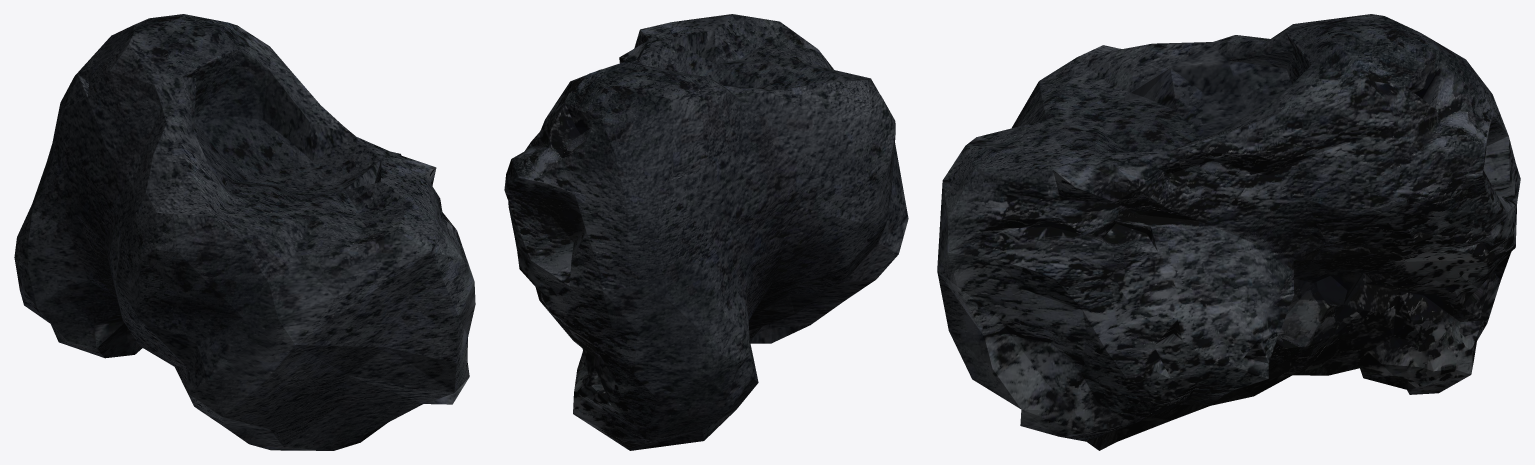
Rendered from lava-rock-1.glb.
3 renders of one model, left to right at view 1: azimuth 30°, elevation 25°; view 2: azimuth 150°, elevation 25°; view 3: azimuth 270°, elevation 25°, orthographic. The views are drawn at different scales.
Parts seen in each view (by area): view 1: tripo_node_e22142ec-6830-4de8-aa73-7a2bf304160d; view 2: tripo_node_e22142ec-6830-4de8-aa73-7a2bf304160d; view 3: tripo_node_e22142ec-6830-4de8-aa73-7a2bf304160d.
Boxes of the visible parts, x1=… form: tripo_node_e22142ec-6830-4de8-aa73-7a2bf304160d: x1=14, y1=14, x2=475, y2=450; tripo_node_e22142ec-6830-4de8-aa73-7a2bf304160d: x1=504, y1=14, x2=908, y2=450; tripo_node_e22142ec-6830-4de8-aa73-7a2bf304160d: x1=937, y1=14, x2=1520, y2=450.
Size of the model in its own units: 0.671 by 0.7278 by 0.9836.
1 material, 1 textured.
